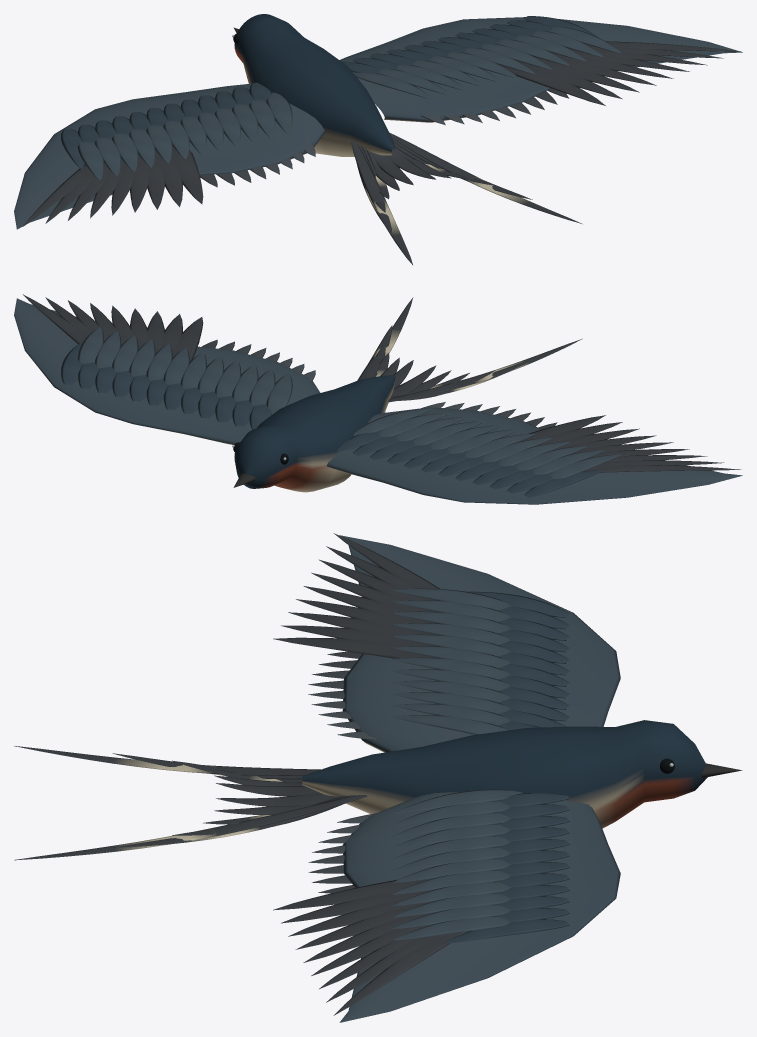
Rendered from swallow.glb.
3 renders of one model, top to bottom at view 1: azimuth 30°, elevation 25°; view 2: azimuth 150°, elevation 25°; view 3: azimuth 270°, elevation 25°, orthographic. The views are drawn at different scales.
Parts seen in each view (by area): view 1: Authored swallow — continuous body and articulated feather w; view 2: Authored swallow — continuous body and articulated feather w; view 3: Authored swallow — continuous body and articulated feather w.
Part boxes in pixels (x1,y1,x2,y2): Authored swallow — continuous body and articulated feather w: (14,14,742,264); Authored swallow — continuous body and articulated feather w: (14,294,742,504); Authored swallow — continuous body and articulated feather w: (14,533,742,1022).
Bounding box in the file's own units: 1.02 × 0.119 × 0.6475.
